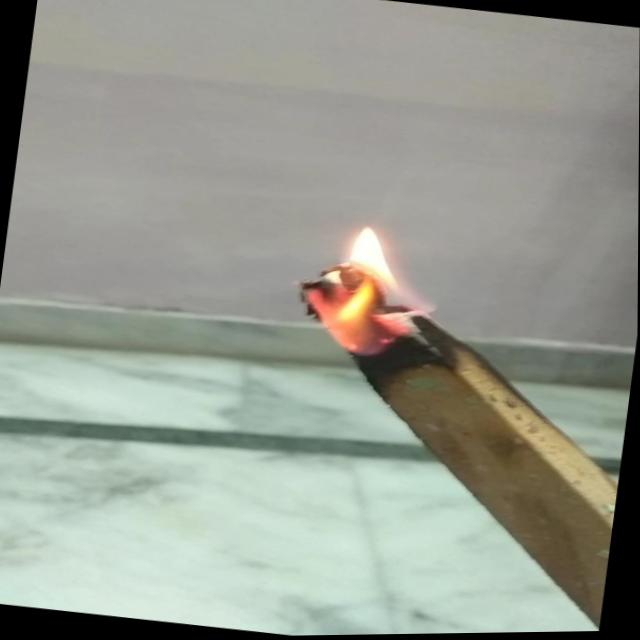fire: (284, 210, 443, 368)
